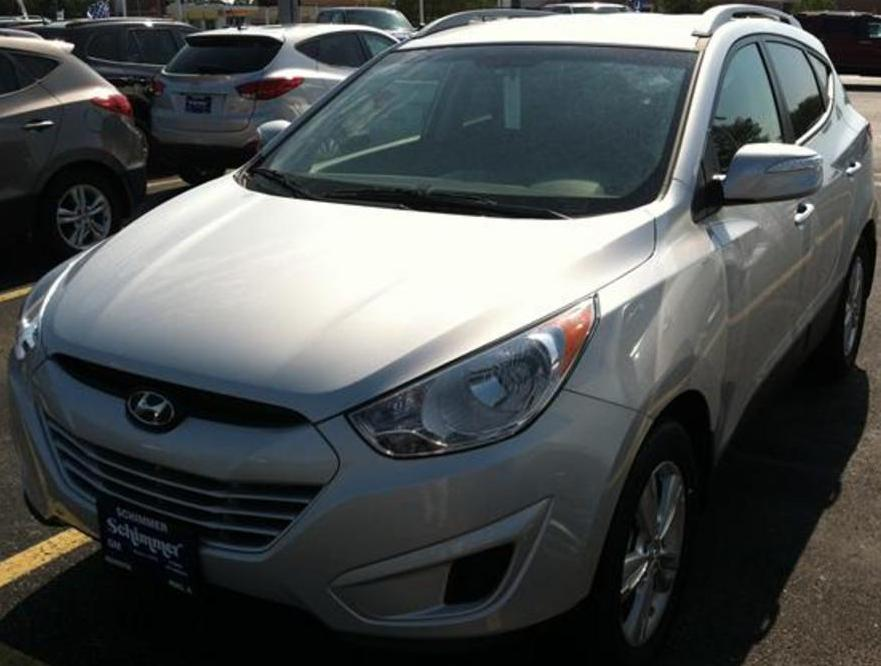front_view: (6, 244, 606, 644)
headlight: (344, 299, 608, 475)
side_glass: (680, 28, 845, 229)
